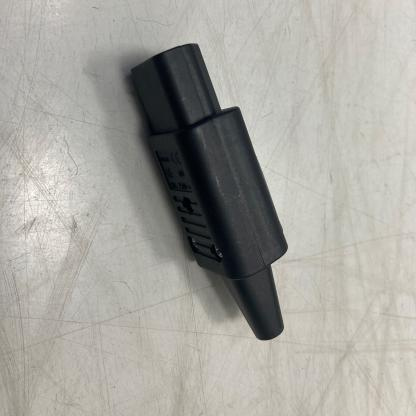SP0000006: (83, 26, 335, 385)
